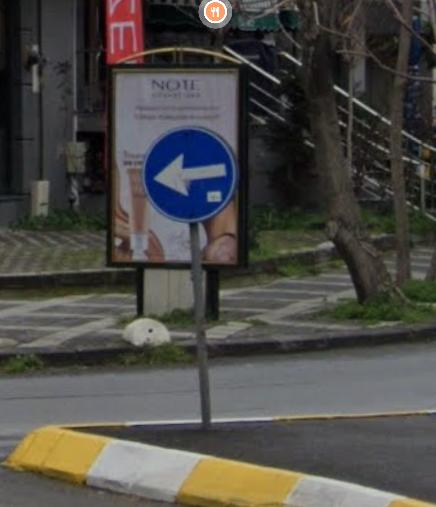turnleft: (151, 128, 232, 215)
